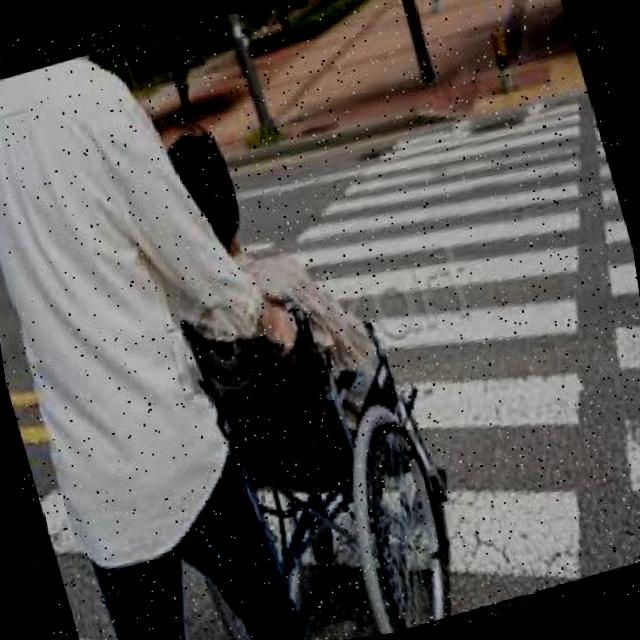Person: (82, 77, 487, 640)
